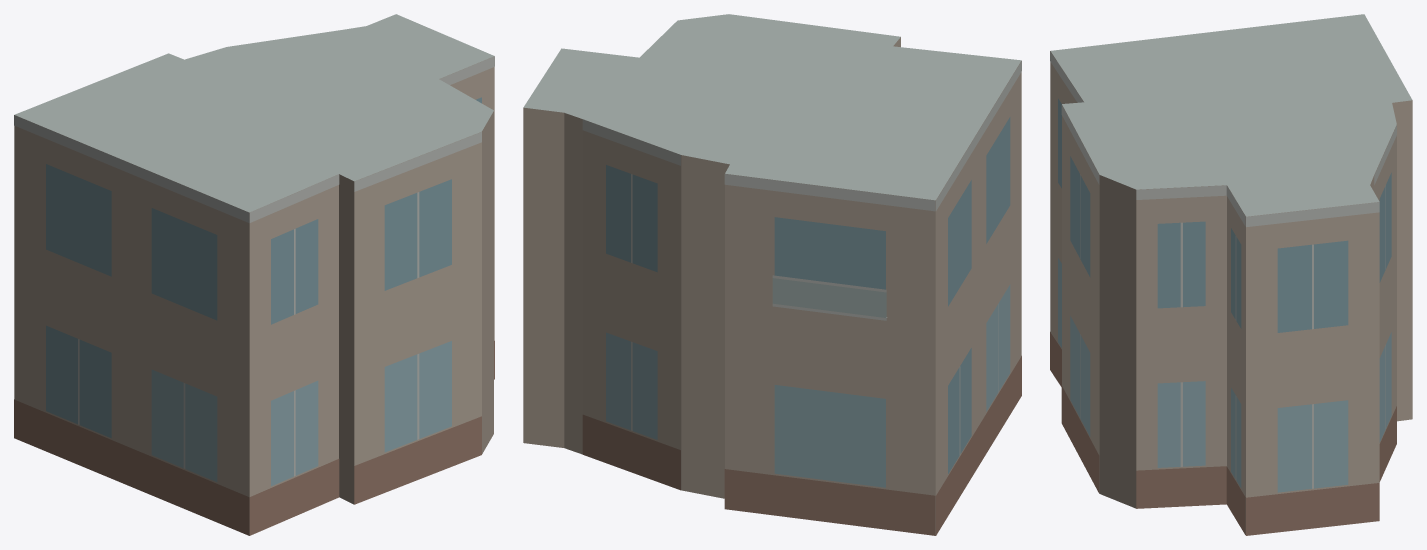
Rendered from survey-upis-32965197.glb.
3 renders of one model, left to right at view 1: azimuth 30°, elevation 25°; view 2: azimuth 150°, elevation 25°; view 3: azimuth 270°, elevation 25°, orthographic. The views are drawn at different scales.
Parts seen in each view (by area): view 1: survey-upis-32965197.tmp; view 2: survey-upis-32965197.tmp; view 3: survey-upis-32965197.tmp.
Boxes of the visible parts, x1,y1,x2,y2 form: survey-upis-32965197.tmp: (14,14,494,535); survey-upis-32965197.tmp: (523,14,1021,535); survey-upis-32965197.tmp: (1050,14,1412,535).
Size of the model in its own units: 10.09 by 7.4 by 7.62.
